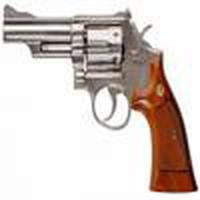gun: (1, 8, 199, 188)
